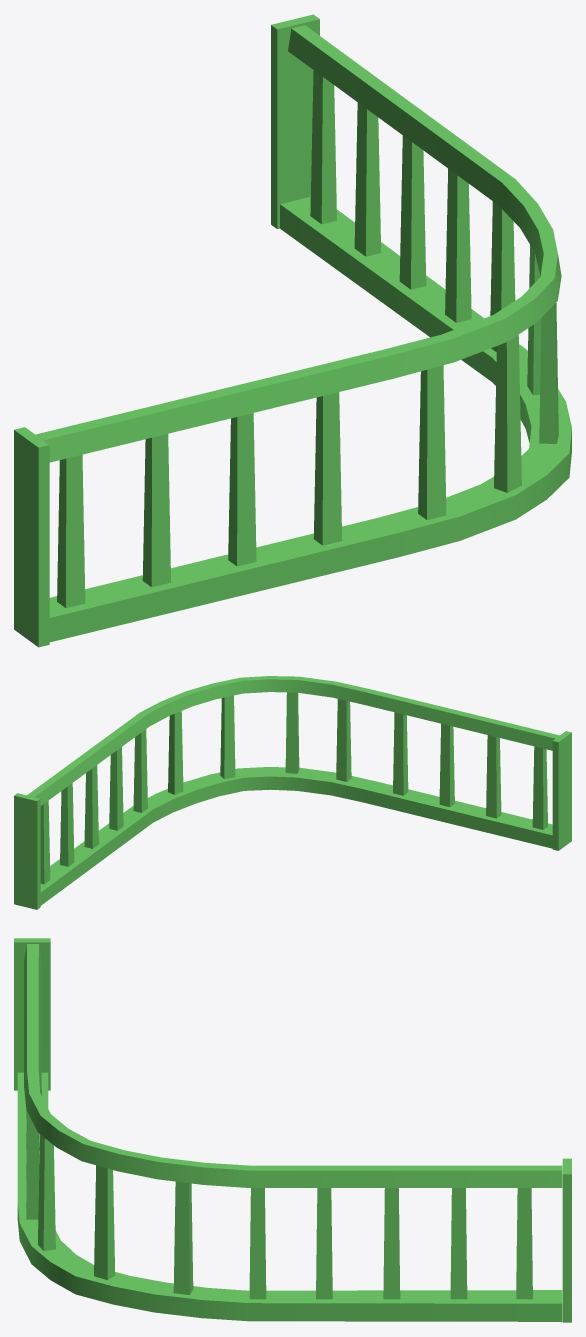
Rendered from Gen_Handrail_Cor_Rnd.fbx.
3 views of the same model, one above another, from view 1: azimuth 30°, elevation 25°; view 2: azimuth 150°, elevation 25°; view 3: azimuth 270°, elevation 25° (orthographic). The views are drawn at different scales.
Parts seen in each view (by area): view 1: Gen_Handrail_Cor_Rnd; view 2: Gen_Handrail_Cor_Rnd; view 3: Gen_Handrail_Cor_Rnd.
Boxes of the visible parts, <box> form: Gen_Handrail_Cor_Rnd: <box>14,14,571,647</box>; Gen_Handrail_Cor_Rnd: <box>14,676,571,909</box>; Gen_Handrail_Cor_Rnd: <box>14,938,571,1322</box>.
Size of the model in its own units: 310 by 91.05 by 310.
